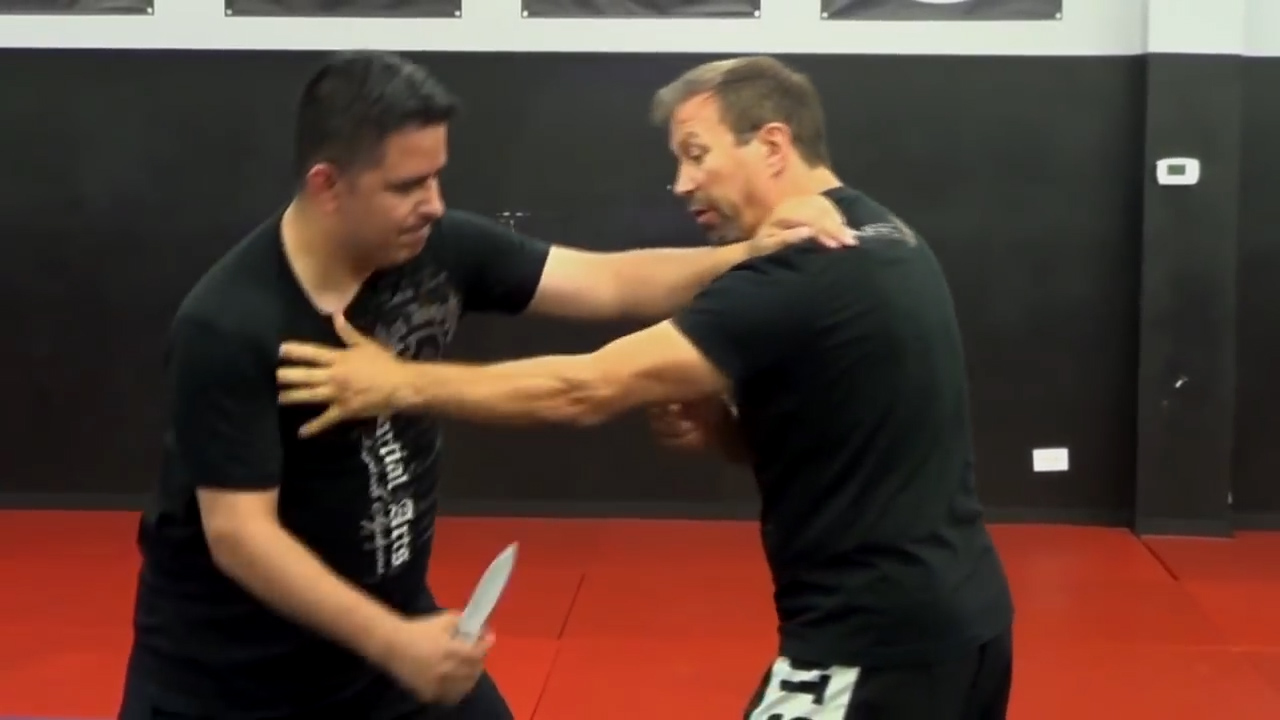knife: (410, 534, 527, 707)
